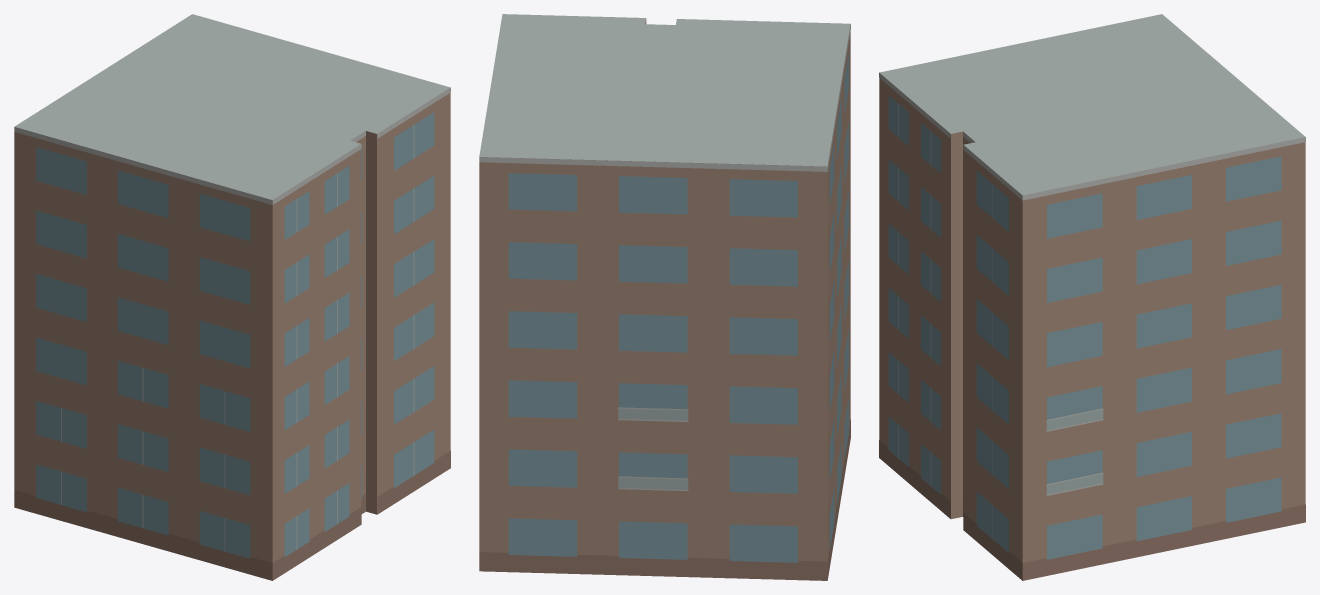
File: survey-upis-32728523.glb
3 views of the same model, side by side, from view 1: azimuth 30°, elevation 25°; view 2: azimuth 150°, elevation 25°; view 3: azimuth 270°, elevation 25° (orthographic). The views are drawn at different scales.
Visible parts, largest first — view 1: survey-upis-32728523.tmp; view 2: survey-upis-32728523.tmp; view 3: survey-upis-32728523.tmp.
Part boxes in pixels (<box>): survey-upis-32728523.tmp: <box>14,14,450,580</box>; survey-upis-32728523.tmp: <box>479,14,850,580</box>; survey-upis-32728523.tmp: <box>879,14,1305,580</box>.
Bounding box in the file's own units: 18.9 × 18.7 × 18.77.
